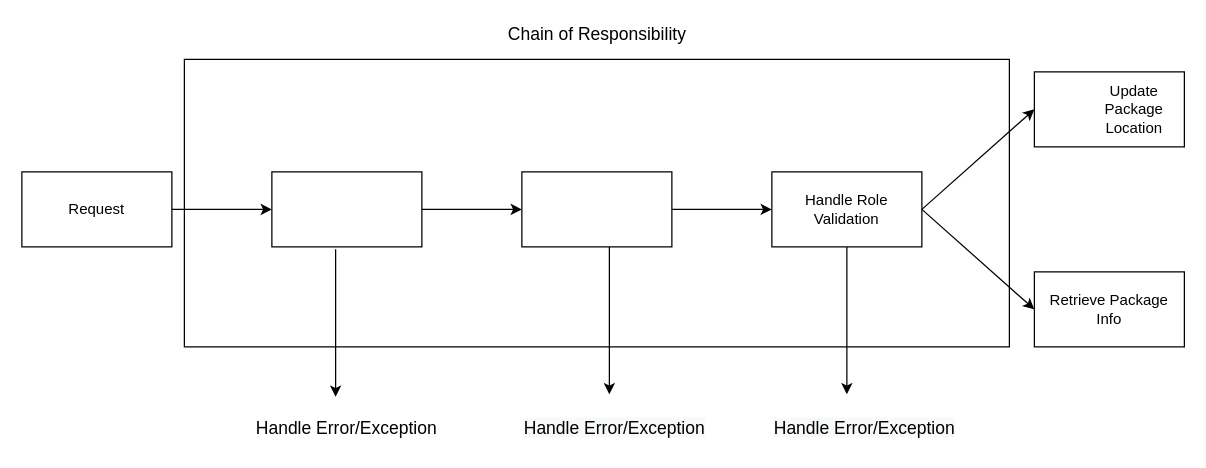
Some shapes in this 1206 by 468 pixel diagram are drawn without their labels. The shapes that lost their labels are listed below. From the top down, each one's box as (x1, y1, x2, y2) in pixels, then its label:
(271, 171, 422, 247): Handle Email Validation
(521, 171, 672, 247): Handle Password Validation
